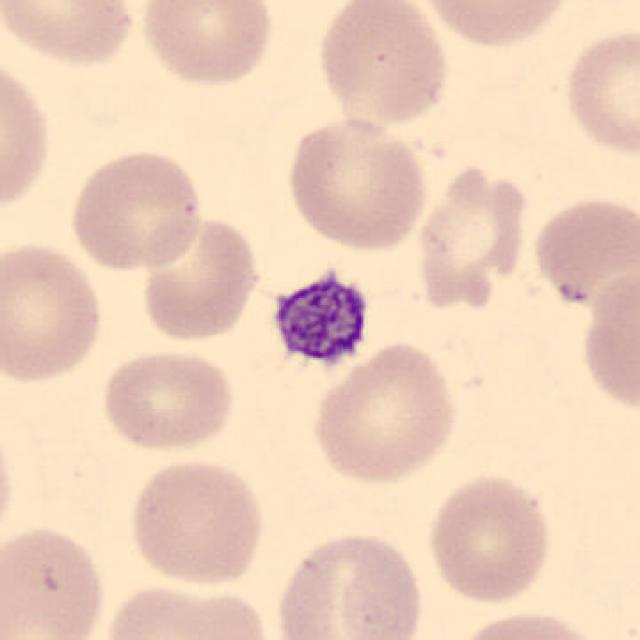Platelets: (260, 261, 374, 383)
RBC: (308, 336, 462, 486), (281, 114, 432, 254), (124, 453, 268, 591), (411, 159, 532, 312), (423, 469, 557, 606), (64, 145, 206, 273), (313, 0, 453, 127), (272, 527, 428, 640), (135, 210, 263, 344), (0, 238, 107, 386), (96, 344, 238, 455), (526, 188, 638, 308), (135, 0, 277, 90), (0, 522, 108, 640), (94, 576, 275, 640), (560, 24, 638, 160), (574, 264, 640, 418), (0, 0, 140, 70), (0, 48, 55, 226), (412, 0, 576, 51), (448, 606, 610, 640), (0, 416, 18, 554)
